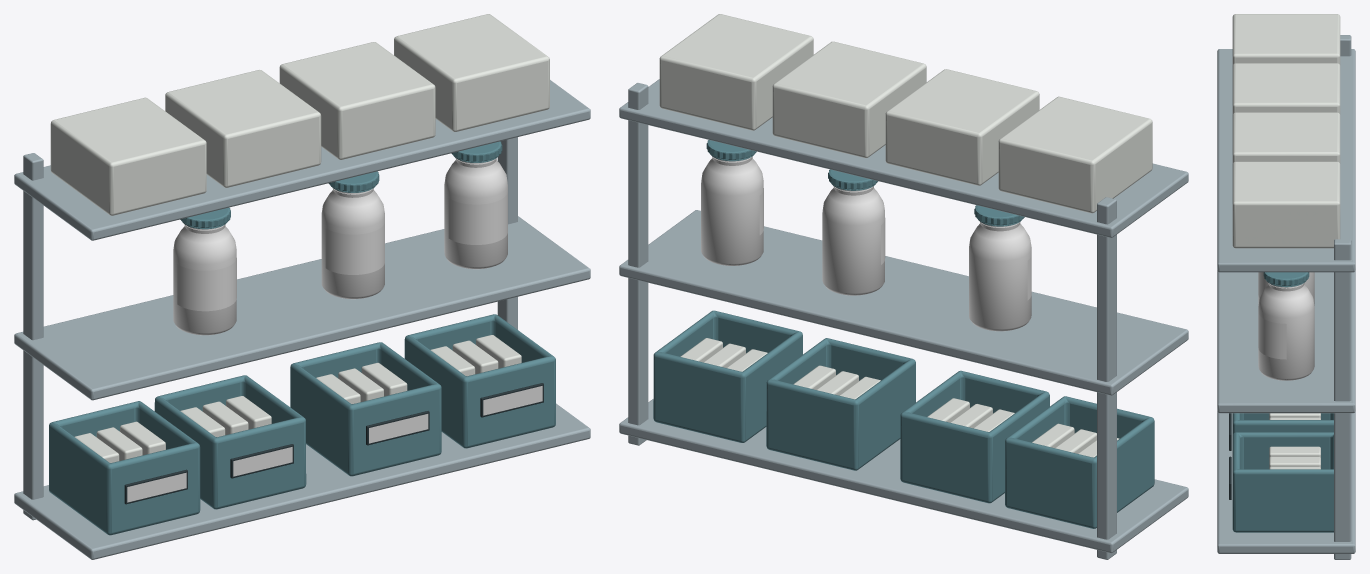
File: ID_MixedSupplyShelf.fbx
The picture shows the model from 3 angles, left to right: view 1: azimuth 30°, elevation 25°; view 2: azimuth 150°, elevation 25°; view 3: azimuth 270°, elevation 25°; orthographic projection. The views are drawn at different scales.
Parts seen in each view (by area): view 1: ID_MixedSupplyShelf; view 2: ID_MixedSupplyShelf; view 3: ID_MixedSupplyShelf.
Boxes of the visible parts, left/top/right/bottom form: ID_MixedSupplyShelf: left=14, top=14, right=590, bottom=559; ID_MixedSupplyShelf: left=619, top=14, right=1188, bottom=559; ID_MixedSupplyShelf: left=1217, top=14, right=1355, bottom=559.
Bounding box in the file's own units: 118 × 88.8 × 32.
